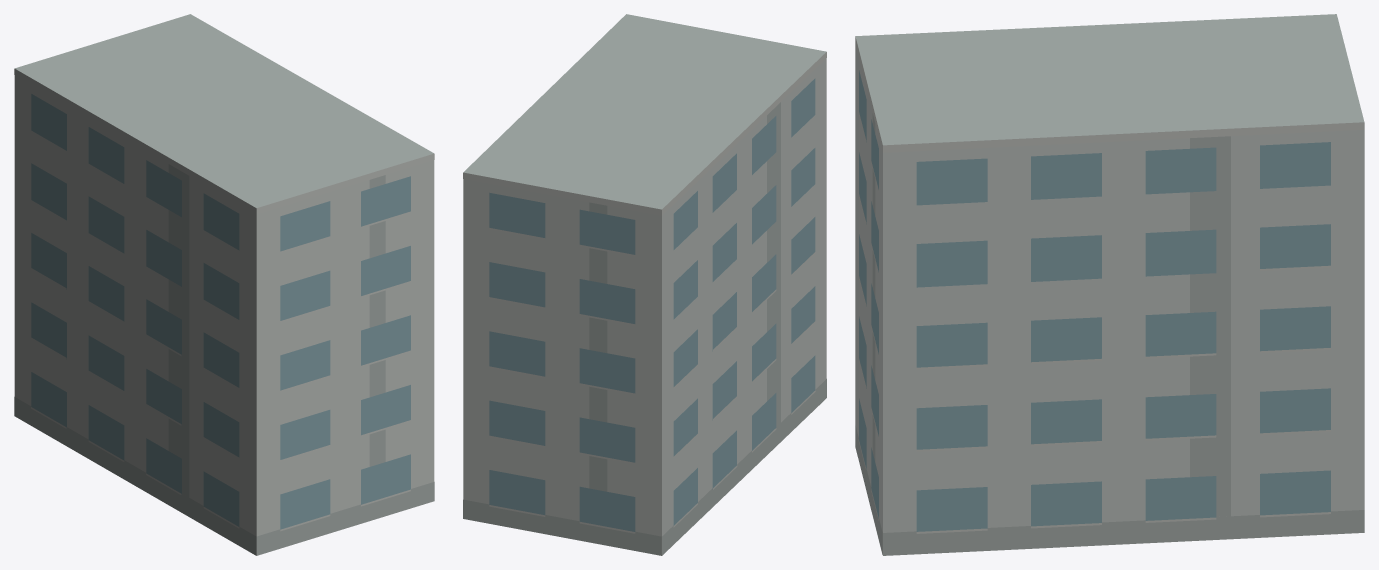
Rendered from survey-upis-33007235.glb.
3 renders of one model, left to right at view 1: azimuth 30°, elevation 25°; view 2: azimuth 150°, elevation 25°; view 3: azimuth 270°, elevation 25°, orthographic. The views are drawn at different scales.
Visible parts, largest first — view 1: survey-upis-33007235.tmp; view 2: survey-upis-33007235.tmp; view 3: survey-upis-33007235.tmp.
Boxes of the visible parts, x1,y1,x2,y2 form: survey-upis-33007235.tmp: (14, 14, 434, 555); survey-upis-33007235.tmp: (463, 14, 826, 555); survey-upis-33007235.tmp: (855, 14, 1364, 555).
Bounding box in the file's own units: 9.06 × 13.2 × 14.85.
